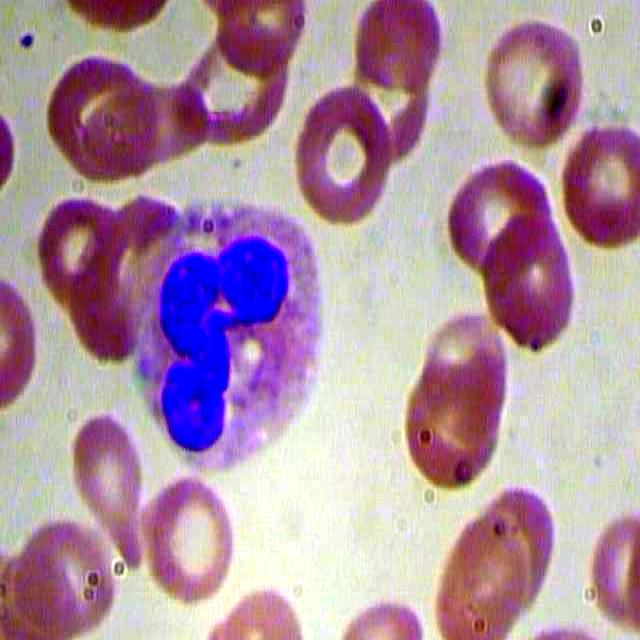RBC: (279, 85, 398, 228), (471, 4, 590, 147), (465, 209, 584, 352), (417, 497, 536, 640), (396, 353, 515, 496), (40, 41, 159, 184), (131, 477, 243, 600), (69, 409, 147, 584), (544, 117, 640, 255), (335, 1, 450, 100)
WBC: (123, 200, 340, 477)
